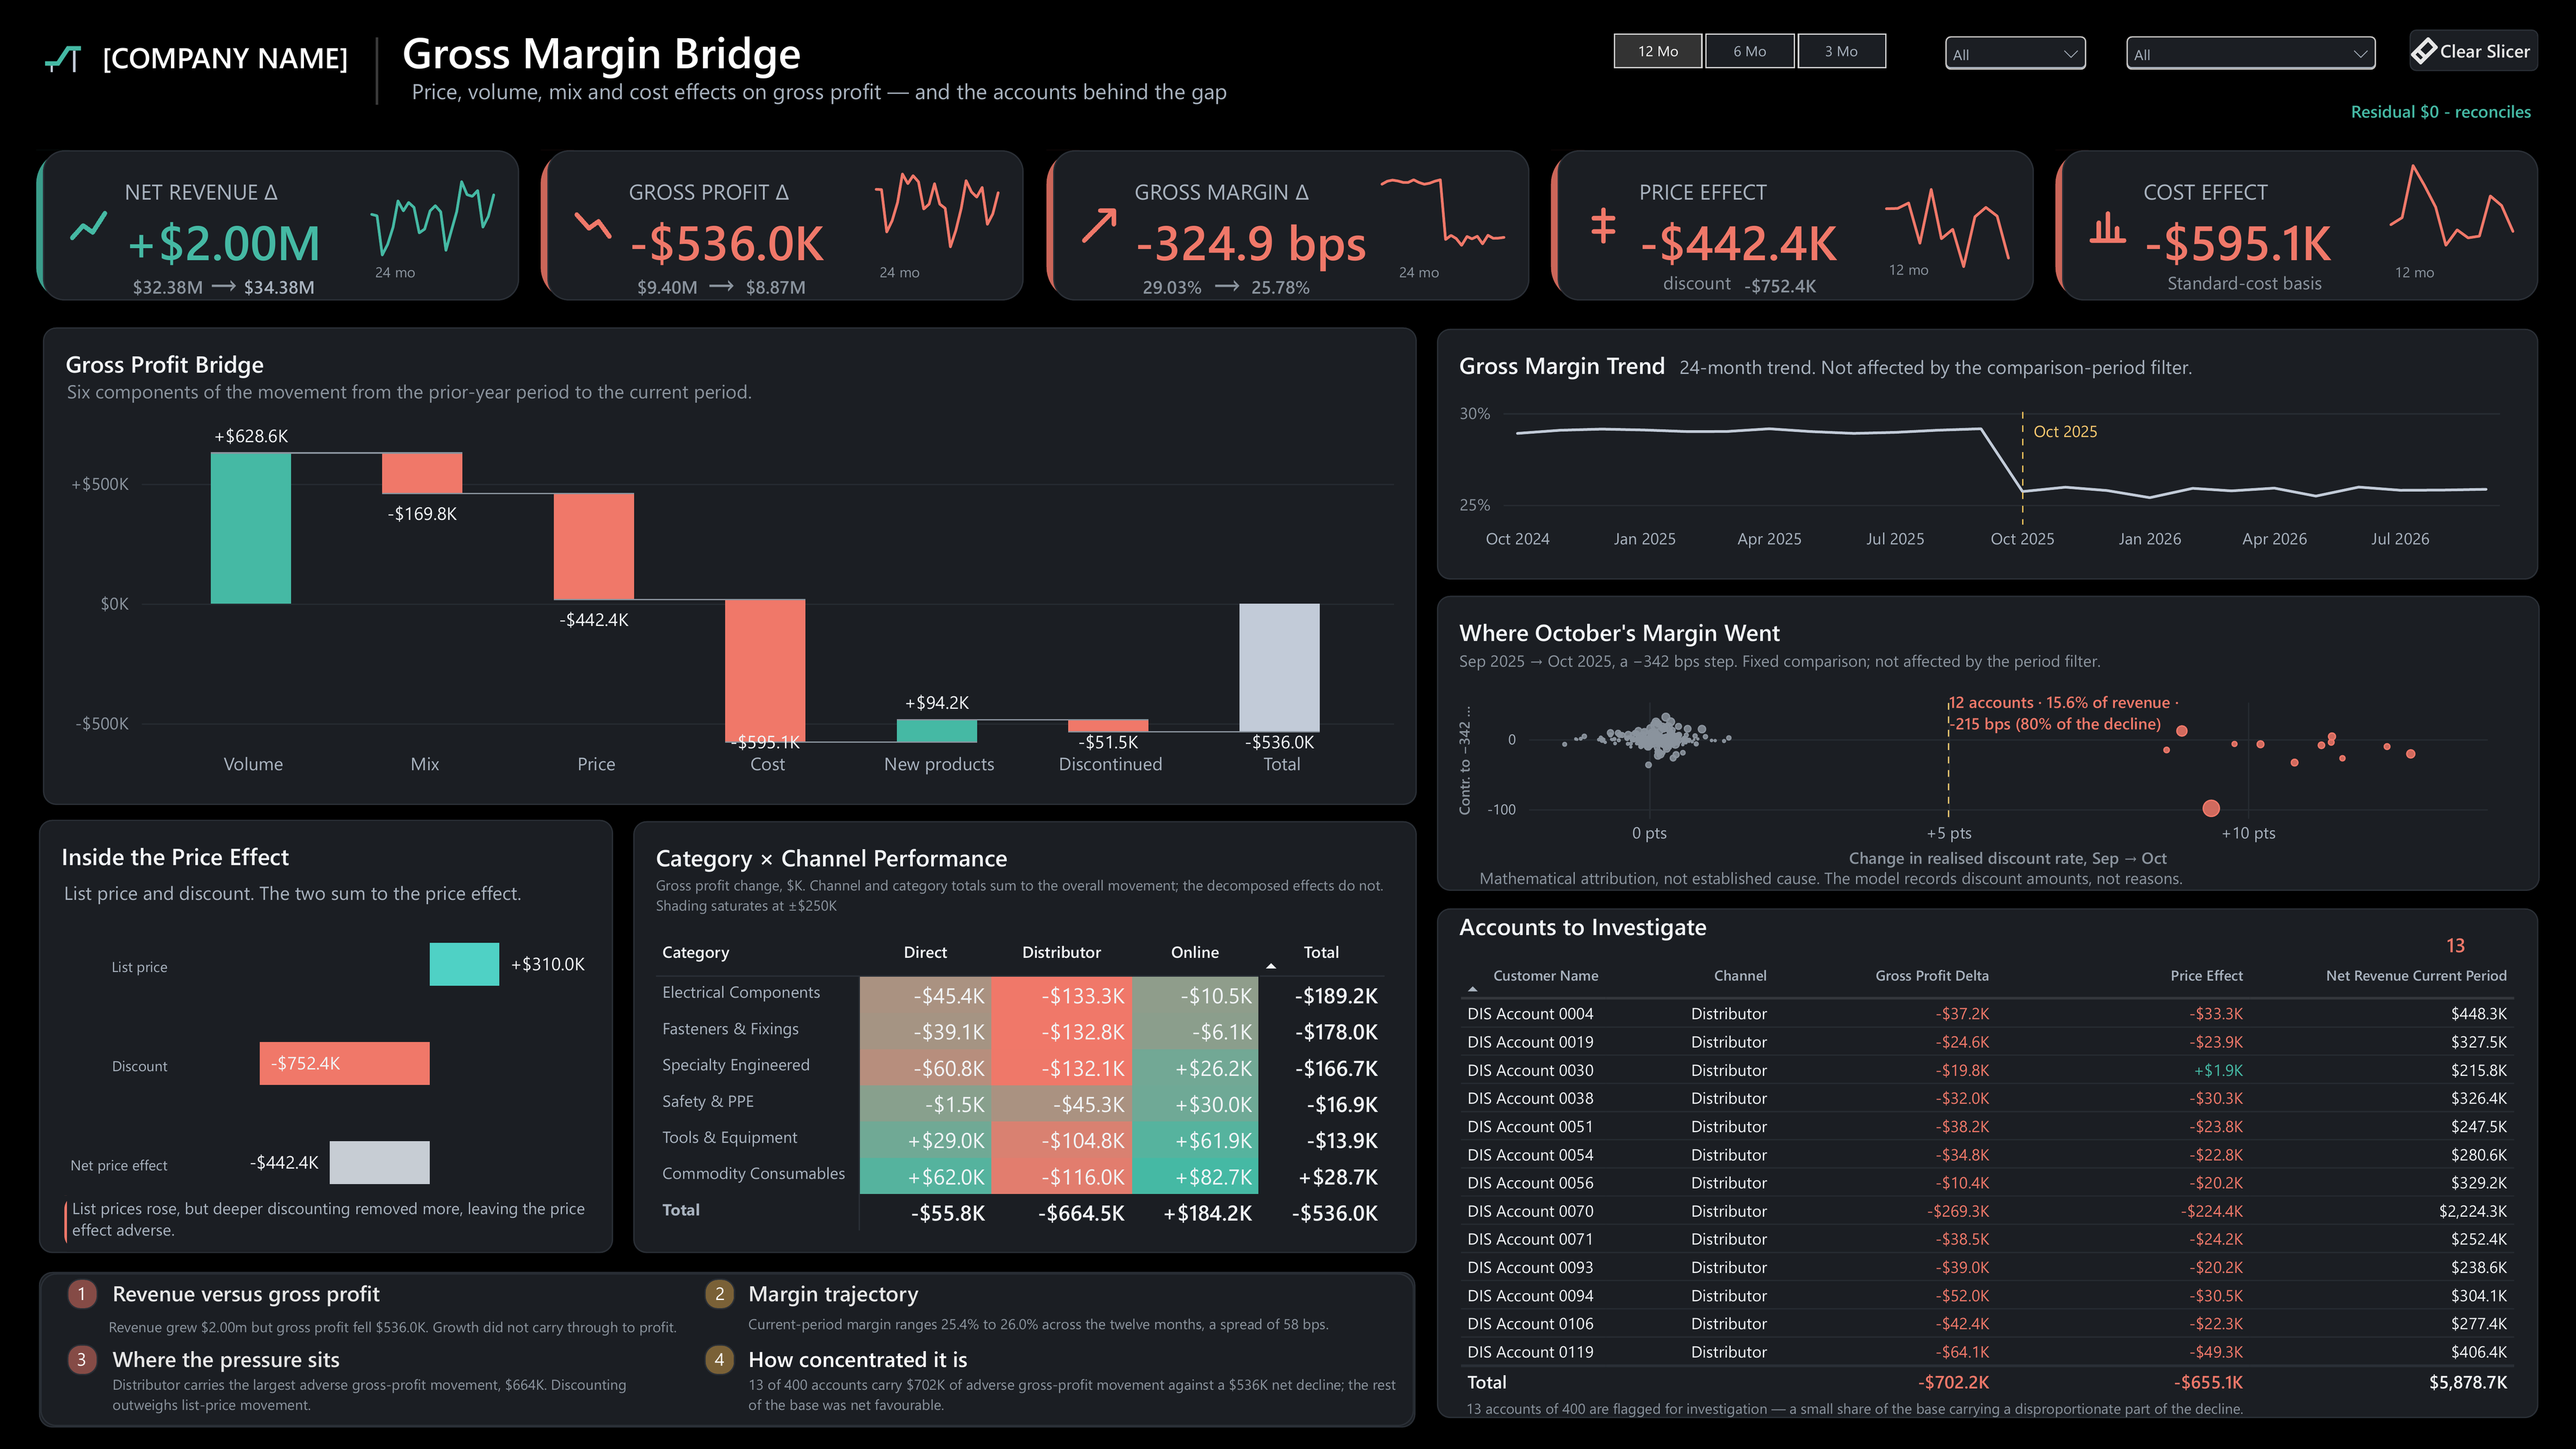

This screenshot's page, from the dashboard's own definition file:
{"tool":"powerbi","page":{"name":"Page 1","canvas":[1920,1080],"ordinal":0},"visuals":[{"type":"cardVisual","title":"Card_Reconcile","fields":{"Data":["fact_sales_line.Reconciliation Status"]},"box":[1598.9,68.9,293.3,24.4],"z":0,"group":"g7"},{"type":"shape","title":"KPI1_accent","box":[27,112.2,50,112.2],"z":0,"group":"g6"},{"type":"shape","title":"KPI1_accent","box":[403.2,112.2,50,112.2],"z":0,"group":"g5"},{"type":"shape","title":"KPI1_accent","box":[779.5,112.2,50,112.2],"z":0,"group":"g4"},{"type":"shape","title":"KPI1_accent","box":[1155.8,112.2,50,112.2],"z":0,"group":"g3"},{"type":"shape","title":"KPI1_accent","box":[1532,112.2,50,112.2],"z":0,"group":"g2"},{"type":"shape","title":"TAKEAWAYS_panel","box":[28.7,948.3,1026.7,115.6],"z":0},{"type":"actionButton","title":"Clear Slicers","box":[1795.5,22.2,96.7,31.1],"z":1000,"group":"g7"},{"type":"cardVisual","title":"KPI1_card","fields":{"Data":["fact_sales_line.Net Revenue Delta"]},"box":[32,112,355,112],"z":1000,"group":"g6"},{"type":"cardVisual","title":"KPI1_card","fields":{"Data":["fact_sales_line.Gross Profit Delta"]},"box":[408.2,112,355,112],"z":1000,"group":"g5"},{"type":"cardVisual","title":"KPI1_card","fields":{"Data":["fact_sales_line.Gross Margin Delta bps"]},"box":[784.5,112,355,112],"z":1000,"group":"g4"},{"type":"cardVisual","title":"KPI1_card","fields":{"Data":["fact_sales_line.Price Effect"]},"box":[1160.8,112,355,112],"z":1000,"group":"g3"},{"type":"cardVisual","title":"KPI1_card","fields":{"Data":["fact_sales_line.Cost Effect"]},"box":[1537,112,355,112],"z":1000,"group":"g2"},{"type":"group","id":"g1","title":"Key_takeaways","box":[49,953,999,105],"z":1000},{"type":"slicer","title":"Slicer_Product Category","fields":{"Values":["dim_product.category"]},"box":[1580,21.7,195.7,40],"z":2000,"group":"g7"},{"type":"cardVisual","title":"KPI1_current revenue","fields":{"Data":["fact_sales_line.Discount Sub-effect"]},"box":[1300,197.6,62,27.8],"z":2000,"group":"g3"},{"type":"cardVisual","title":"KPI1_current revenue","fields":{"Data":["fact_sales_line.Net Revenue CP"]},"box":[182,198.9,63.3,26],"z":2000,"group":"g6"},{"type":"cardVisual","title":"KPI1_current revenue","fields":{"Data":["fact_sales_line.Gross Profit CP"]},"box":[556.2,198.9,63.3,26],"z":2000,"group":"g5"},{"type":"cardVisual","title":"KPI1_current revenue","fields":{"Data":["_Measures.Gross Margin CP"]},"box":[932.5,198.9,63.3,26],"z":2000,"group":"g4"},{"type":"textbox","title":"KPI1 cost basis text","box":[1616,202,127,18],"z":2000,"group":"g2"},{"type":"lineChart","title":"Gross Margin Trend","fields":{"Category":["dim_date.year_month"],"Y":["fact_sales_line.Gross Margin %"]},"box":[1070.9,245.5,820.9,186.4],"z":2000},{"type":"slicer","title":"Slicer_Channel","fields":{"Values":["dim_customer.channel"]},"box":[1444.6,21.7,115.6,41.1],"z":3000,"group":"g7"},{"type":"textbox","title":"KPI1 arrow","box":[155,192,26,36],"z":3000,"group":"g6"},{"type":"textbox","title":"KPI1 arrow","box":[526.2,192,26,36],"z":3000,"group":"g5"},{"type":"textbox","title":"KPI1 arrow","box":[902.5,192,26,36],"z":3000,"group":"g4"},{"type":"textbox","title":"Text box - 24 mo","box":[1785,195,40,21],"z":3000,"group":"g2"},{"type":"textbox","title":"KPI1 discount","box":[1240,202,56.7,21],"z":3000,"group":"g3"},{"type":"waterfallChart","title":"Gross Profit Bridge","fields":{"Category":["BridgeStep.step_label"],"Y":["fact_sales_line.Bridge Component"]},"box":[32,244,1024,356],"z":3000},{"type":"slicer","title":"Slicer_Period","fields":{"Values":["dim_period.label"]},"box":[1181.9,23.1,242.9,30],"z":4000,"group":"g7"},{"type":"lineChart","title":"KPI1_spark","fields":{"Category":["dim_date.year_month"],"Y":["_Measures.Cost Effect Monthly"]},"box":[1772,114.2,111.1,87.8],"z":4000,"group":"g2"},{"type":"textbox","title":"Text box - 12 mo","box":[1408,193.1,48,23.3],"z":4000,"group":"g3"},{"type":"cardVisual","title":"KPI1_Previous revenue","fields":{"Data":["fact_sales_line.Net Revenue PP"]},"box":[98.9,198.9,68,26],"z":4000,"group":"g6"},{"type":"cardVisual","title":"KPI1_Previous revenue","fields":{"Data":["fact_sales_line.Gross Profit PP"]},"box":[475.1,198.9,63,26],"z":4000,"group":"g5"},{"type":"cardVisual","title":"KPI1_Previous revenue","fields":{"Data":["_Measures.Gross Margin PP"]},"box":[851.4,198.9,63,26],"z":4000,"group":"g4"},{"type":"tableEx","title":"Accounts to Investigate","fields":{"Values":["dim_customer.customer_name","dim_customer.channel","fact_sales_line.Gross Profit Delta","fact_sales_line.Price Effect","fact_sales_line.Net Revenue CP"]},"box":[1071,677,821,387],"z":4000},{"type":"textbox","title":"HDR_subtitle","box":[306.8,57.1,650,27.8],"z":5000,"group":"g7"},{"type":"lineChart","title":"KPI1_spark","fields":{"Category":["dim_date.year_month"],"Y":["_Measures.Price Effect Monthly"]},"box":[1395.8,114.2,111.1,87.8],"z":5000,"group":"g3"},{"type":"image","title":"KPI1_icon","box":[1553,150,36,36],"z":5000,"group":"g2"},{"type":"textbox","title":"Text box - 24 mo","box":[280,195,38,21],"z":5000,"group":"g6"},{"type":"textbox","title":"Text box - 24 mo","box":[656,195,38,21],"z":5000,"group":"g5"},{"type":"textbox","title":"Text box - 24 mo","box":[1042,195,38,21],"z":5000,"group":"g4"},{"type":"cardVisual","title":"Card_Account Footnote","fields":{"Data":["_Measures.Insight Concentration (light)"]},"box":[1093,1040,598.8,20],"z":5000},{"type":"textbox","title":"HDR_title","box":[300,16,311.1,45],"z":6000,"group":"g7"},{"type":"lineChart","title":"KPI1_spark","fields":{"Category":["dim_date.year_month"],"Y":["fact_sales_line.Net Revenue"]},"box":[267,114.2,111.1,87.8],"z":6000,"group":"g6"},{"type":"lineChart","title":"KPI1_spark","fields":{"Category":["dim_date.year_month"],"Y":["fact_sales_line.Gross Profit"]},"box":[643.2,114.2,111.1,87.8],"z":6000,"group":"g5"},{"type":"lineChart","title":"KPI1_spark","fields":{"Category":["dim_date.year_month"],"Y":["fact_sales_line.Gross Margin %"]},"box":[1019.5,114.2,111.1,87.8],"z":6000,"group":"g4"},{"type":"image","title":"KPI1_icon","box":[1176.8,150,36,36],"z":6000,"group":"g3"},{"type":"cardVisual","title":"VIS_accounts_count","fields":{"Data":["_Measures.Investigation Account Count"]},"box":[1808,694,62,20],"z":6000},{"type":"cardVisual","title":"TAKE4_body","fields":{"Data":["_Measures.Insight Concentration"]},"box":[557.8,1018,490,40],"z":6000,"group":"g1"},{"type":"textbox","title":"Text_title 4","box":[558,1002,178.8,21],"z":6031,"group":"g1"},{"type":"shape","title":"Shape4","box":[525,1002,23,23],"z":6062,"group":"g1"},{"type":"textbox","title":"Text _no 4","box":[525,1004,23,21],"z":6125,"group":"g1"},{"type":"cardVisual","title":"TAKE3_body","fields":{"Data":["_Measures.Insight Margin Trajectory"]},"box":[558,974.6,490,20],"z":6250,"group":"g1"},{"type":"textbox","title":"Text title 3","box":[558,953,189.1,21],"z":6500,"group":"g1"},{"type":"shape","title":"HDR_divider","box":[275,28,12,50],"z":7000,"group":"g7"},{"type":"image","title":"KPI1_icon","box":[48,150,36,36],"z":7000,"group":"g6"},{"type":"image","title":"KPI1_icon","box":[424.2,150,36,36],"z":7000,"group":"g5"},{"type":"image","title":"KPI1_icon","box":[800.5,150,36,36],"z":7000,"group":"g4"},{"type":"pivotTable","title":"Category × Channel Performance","fields":{"Columns":["dim_customer.channel"],"Rows":["dim_product.category"],"Values":["fact_sales_line.Gross Profit Delta"]},"box":[472.2,612.2,583.3,322.2],"z":7000},{"type":"shape","title":"Shape3","box":[525,953,23,23],"z":7000,"group":"g1"},{"type":"textbox","title":"HDR_company","box":[75.5,27.8,200,30],"z":8000,"group":"g7"},{"type":"clusteredBarChart","title":"Inside the Price Effect","fields":{"Category":["PriceStep.step_label"],"Y":["_Measures.Price Step Value"]},"box":[28.9,611.1,427.8,323.3],"z":8000},{"type":"textbox","title":"Text_no 2","box":[528,955,18,20],"z":8000,"group":"g1"},{"type":"image","title":"HDR_monogram","box":[28.8,29.4,34.7,30],"z":9000,"group":"g7"},{"type":"shape","title":"VIS_price_insight_rule","box":[47.8,891,97.2,40],"z":9000},{"type":"cardVisual","title":"TAKE2_body","fields":{"Data":["_Measures.Insight Pressure"]},"box":[83.8,1018,426.2,40],"z":9000,"group":"g1"},{"type":"cardVisual","title":"VIS_price_insight","fields":{"Data":["_Measures.Insight Price Split"]},"box":[50,890,394.4,43],"z":10000},{"type":"textbox","title":"Text_title 2","box":[84,1002,178.3,22],"z":10000,"group":"g1"},{"type":"textbox","title":"Text box_Subtitle","box":[48.2,655.7,342.6,23.4],"z":11000},{"type":"shape","title":"Shape2","box":[50,1002,23,23],"z":11000,"group":"g1"},{"type":"scatterChart","title":"Where October''s Margin Went","fields":{"Category":["dim_customer.customer_name"],"Size":["_Measures.Oct Net Revenue"],"X":["_Measures.Oct Discount Rate Change pts"],"Y":["_Measures.Oct Margin Contribution bps"]},"box":[1071.2,443.8,821.2,220],"z":12000},{"type":"textbox","title":"Text_no 23","box":[52,1004,18,20],"z":12000,"group":"g1"},{"type":"cardVisual","title":"Card Fall reason","fields":{"Data":["_Measures.Oct Outlier Annotation"]},"box":[1453.3,513.3,172.2,72.2],"z":12500},{"type":"textbox","title":"Text_Footnote","box":[1103,646,739,18],"z":13000},{"type":"cardVisual","title":"TAKE1_body","fields":{"Data":["_Measures.Insight Revenue vs Profit"]},"box":[81.3,974.6,436.7,25],"z":13000,"group":"g1"},{"type":"textbox","title":"Text title 1","box":[84,953,209.1,21.8],"z":14000,"group":"g1"},{"type":"textbox","title":"VIS_trend_marker_label","box":[1515.5,313,60,17],"z":15000},{"type":"shape","title":"Shape1","box":[50,953,23,23],"z":15000,"group":"g1"},{"type":"textbox","title":"Sub title","box":[1252,264,396.2,20],"z":16000},{"type":"textbox","title":"Text_no 1","box":[49,955,24,21],"z":16000,"group":"g1"},{"type":"textbox","title":"Text box_Subtitle","box":[50,282,520,24.3],"z":17000},{"type":"group","id":"g2","title":"KPI 5","box":[1532,112,360,112.4],"z":18000},{"type":"group","id":"g3","title":"KPI 4","box":[1155.8,112,360,113.3],"z":19000},{"type":"group","id":"g4","title":"KPI 3","box":[779.5,112,360,116],"z":20000},{"type":"group","id":"g5","title":"KPI 2","box":[403.2,112,360,116],"z":21000},{"type":"group","id":"g6","title":"KPI 1","box":[27,112,360,116],"z":22000},{"type":"group","id":"g7","title":"Header","box":[28.8,16,1863.4,77.3],"z":23000}]}

Visuals, with their boxes in screenshot pixels (x1, y1, x2, y2), scaled from the page's 1920x1080 canvas onto the 2576x1449 screenshot:
"Card_Reconcile" cardVisual: (2145,93,2538,125)
"KPI1_accent" shape: (36,150,103,301)
"KPI1_accent" shape: (541,150,608,301)
"KPI1_accent" shape: (1046,150,1113,301)
"KPI1_accent" shape: (1551,150,1618,301)
"KPI1_accent" shape: (2055,150,2123,301)
"TAKEAWAYS_panel" shape: (38,1273,1416,1428)
"Clear Slicers" actionButton: (2409,30,2538,72)
"KPI1_card" cardVisual: (43,150,519,301)
"KPI1_card" cardVisual: (547,150,1024,301)
"KPI1_card" cardVisual: (1053,150,1529,301)
"KPI1_card" cardVisual: (1558,150,2034,301)
"KPI1_card" cardVisual: (2062,150,2538,301)
"Key_takeaways" group: (66,1279,1406,1419)
"Slicer_Product Category" slicer: (2120,29,2382,83)
"KPI1_current revenue" cardVisual: (1744,265,1827,303)
"KPI1_current revenue" cardVisual: (244,267,329,302)
"KPI1_current revenue" cardVisual: (746,267,831,302)
"KPI1_current revenue" cardVisual: (1251,267,1336,302)
"KPI1 cost basis text" textbox: (2168,271,2339,295)
"Gross Margin Trend" lineChart: (1437,329,2538,580)
"Slicer_Channel" slicer: (1938,29,2093,85)
"KPI1 arrow" textbox: (208,258,243,306)
"KPI1 arrow" textbox: (706,258,741,306)
"KPI1 arrow" textbox: (1211,258,1246,306)
"Text box - 24 mo" textbox: (2395,262,2449,290)
"KPI1 discount" textbox: (1664,271,1739,299)
"Gross Profit Bridge" waterfallChart: (43,327,1417,805)
"Slicer_Period" slicer: (1586,31,1912,71)
"KPI1_spark" lineChart: (2377,153,2526,271)
"Text box - 12 mo" textbox: (1889,259,1953,290)
"KPI1_Previous revenue" cardVisual: (133,267,224,302)
"KPI1_Previous revenue" cardVisual: (637,267,722,302)
"KPI1_Previous revenue" cardVisual: (1142,267,1227,302)
"Accounts to Investigate" tableEx: (1437,908,2538,1428)
"HDR_subtitle" textbox: (412,76,1284,114)
"KPI1_spark" lineChart: (1873,153,2022,271)
"KPI1_icon" image: (2084,201,2132,250)
"Text box - 24 mo" textbox: (376,262,427,290)
"Text box - 24 mo" textbox: (880,262,931,290)
"Text box - 24 mo" textbox: (1398,262,1449,290)
"Card_Account Footnote" cardVisual: (1466,1395,2270,1422)
"HDR_title" textbox: (402,21,820,82)
"KPI1_spark" lineChart: (358,153,507,271)
"KPI1_spark" lineChart: (863,153,1012,271)
"KPI1_spark" lineChart: (1368,153,1517,271)
"KPI1_icon" image: (1579,201,1627,250)
"VIS_accounts_count" cardVisual: (2426,931,2509,958)
"TAKE4_body" cardVisual: (749,1366,1406,1419)
"Text_title 4" textbox: (749,1344,989,1373)
"Shape4" shape: (704,1344,735,1375)
"Text _no 4" textbox: (704,1347,735,1375)
"TAKE3_body" cardVisual: (749,1307,1406,1334)
"Text title 3" textbox: (749,1279,1002,1307)
"HDR_divider" shape: (369,38,385,105)
"KPI1_icon" image: (64,201,113,250)
"KPI1_icon" image: (569,201,617,250)
"KPI1_icon" image: (1074,201,1122,250)
"Category × Channel Performance" pivotTable: (633,821,1416,1254)
"Shape3" shape: (704,1279,735,1309)
"HDR_company" textbox: (101,38,370,78)
"Inside the Price Effect" clusteredBarChart: (39,820,612,1254)
"Text_no 2" textbox: (708,1281,733,1308)
"HDR_monogram" image: (39,40,85,80)
"VIS_price_insight_rule" shape: (64,1195,195,1249)
"TAKE2_body" cardVisual: (113,1366,684,1419)
"VIS_price_insight" cardVisual: (67,1194,596,1252)
"Text_title 2" textbox: (113,1344,352,1374)
"Text box_Subtitle" textbox: (64,879,525,911)
"Shape2" shape: (67,1344,98,1375)
"Where October''s Margin Went" scatterChart: (1437,596,2539,891)
"Text_no 23" textbox: (70,1347,94,1374)
"Card Fall reason" cardVisual: (1950,689,2181,786)
"Text_Footnote" textbox: (1480,867,2471,891)
"TAKE1_body" cardVisual: (109,1307,695,1341)
"Text title 1" textbox: (113,1279,393,1308)
"VIS_trend_marker_label" textbox: (2033,420,2114,443)
"Shape1" shape: (67,1279,98,1309)
"Sub title" textbox: (1680,354,2211,381)
"Text_no 1" textbox: (66,1281,98,1309)
"Text box_Subtitle" textbox: (67,378,765,411)
"KPI 5" group: (2055,150,2538,301)
"KPI 4" group: (1551,150,2034,303)
"KPI 3" group: (1046,150,1529,306)
"KPI 2" group: (541,150,1024,306)
"KPI 1" group: (36,150,519,306)
"Header" group: (39,21,2538,125)
